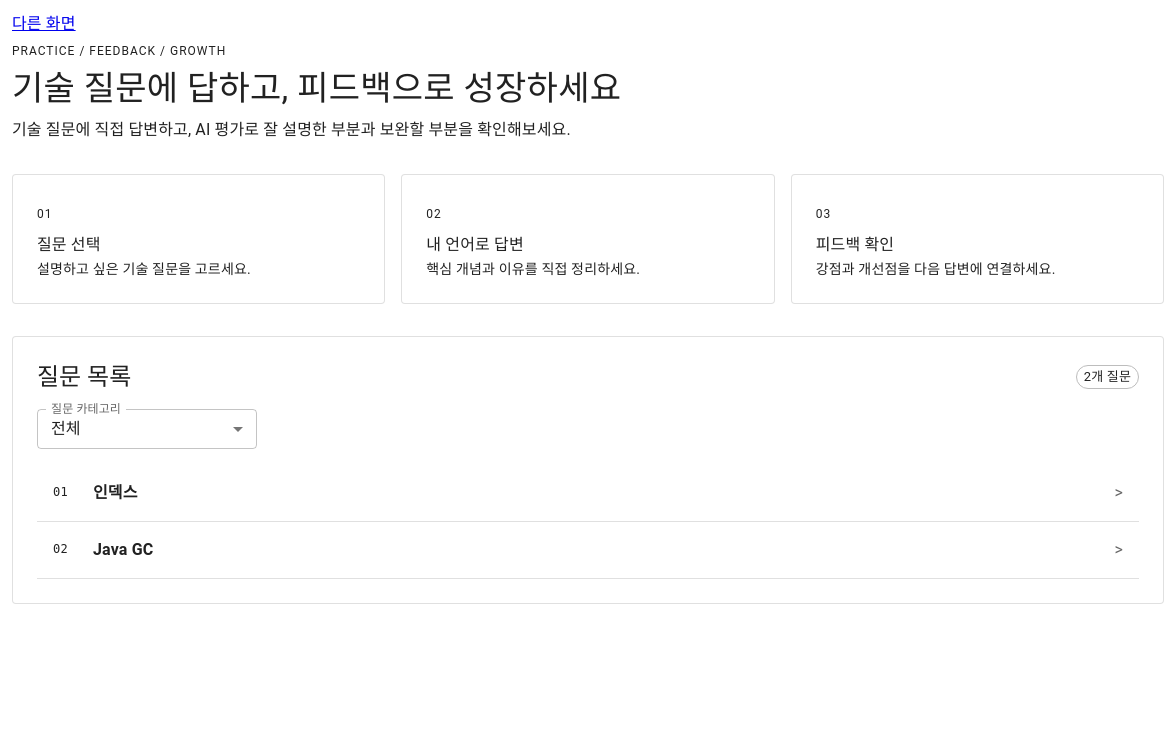
Test case: distinguishes filtered-empty from global empty without fetching on filter changes
The width and height of the screenshot is (1164, 732).
Check: the list named "질문 목록" is shown, box [37,465,1139,579]
Click the dropdown named "질문 카테고리" at (66, 429), box [51,419,81,438]
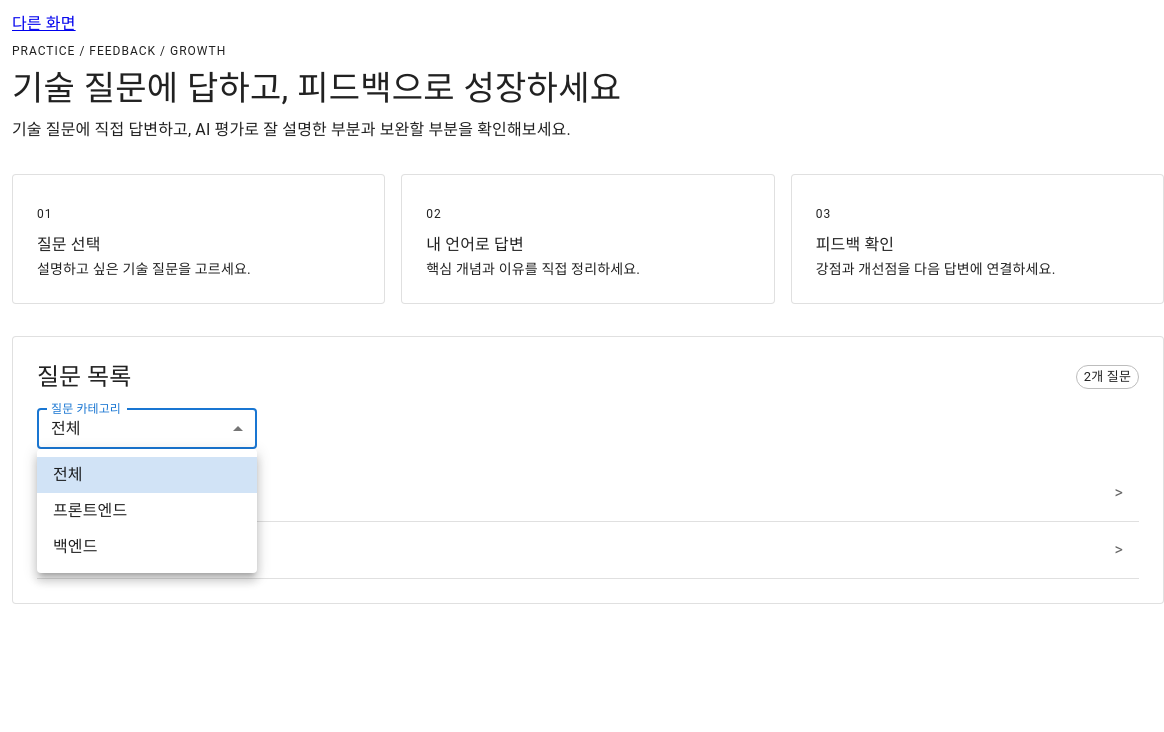
Click the option "프론트엔드" at (90, 510), box [53,501,127,520]
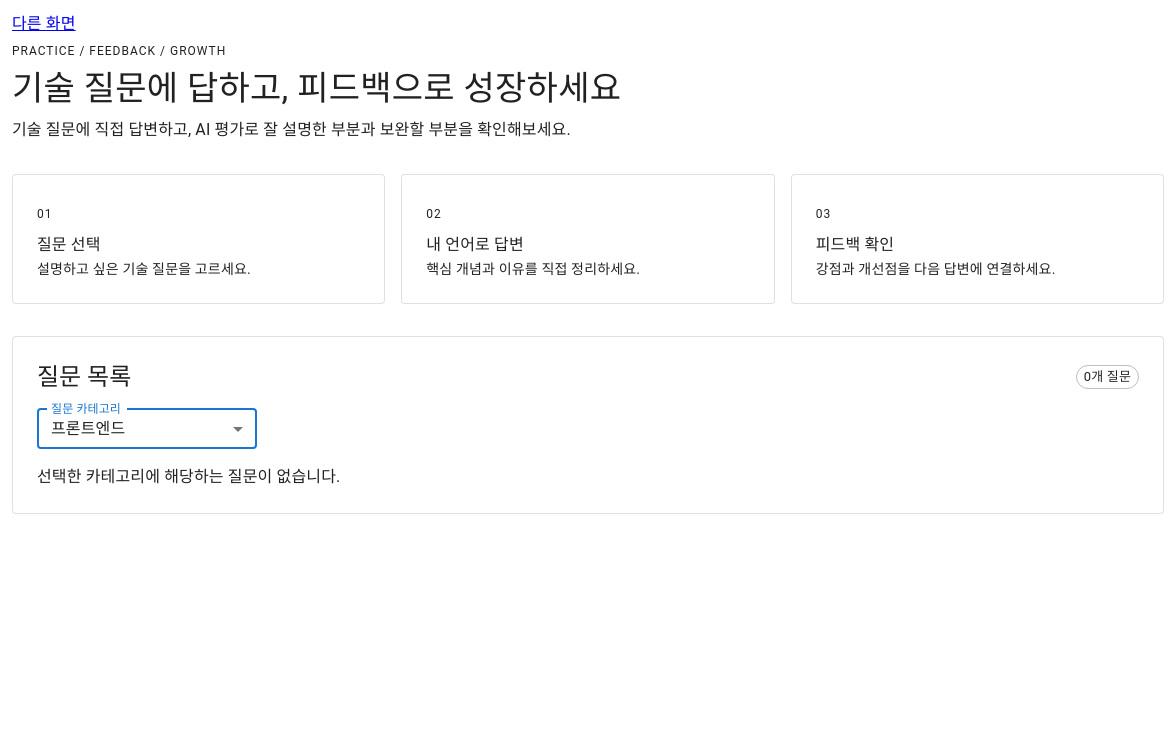
Check: the message reads "선택한 카테고리에 해당하는 질문이 없습니다.", box [37,467,340,486]
Check: the text "0개 질문" is shown, box [1084,369,1131,384]
Check: the list is gone
